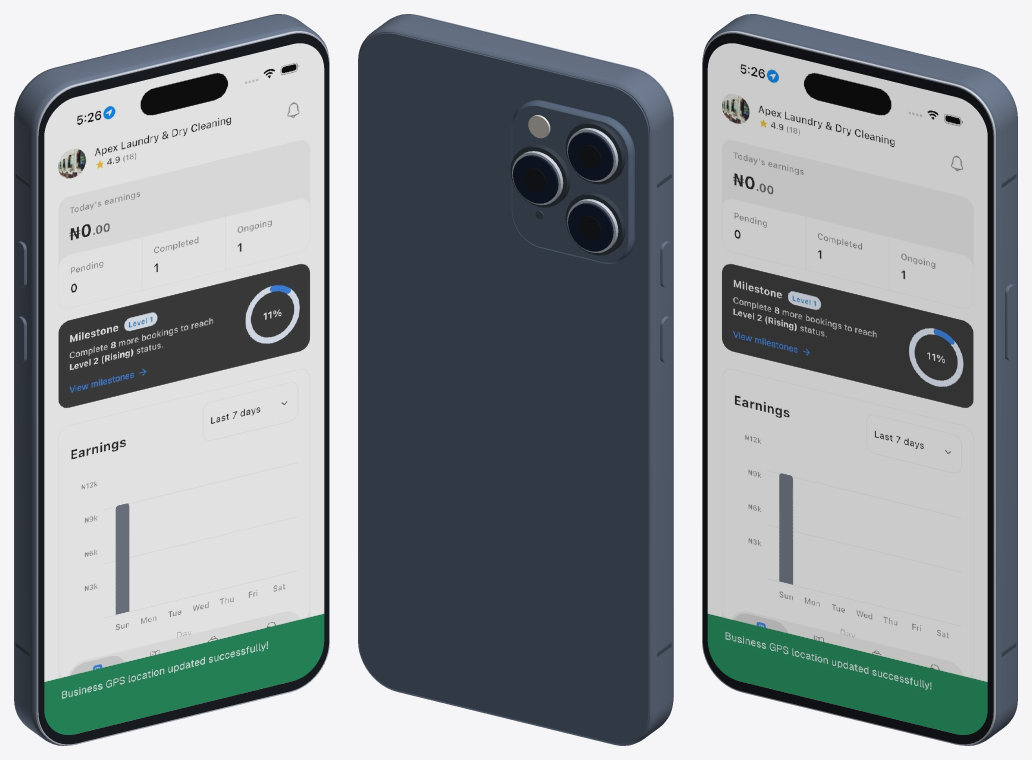
File: vendor-phone.glb
3 renders of one model, left to right at view 1: azimuth 30°, elevation 25°; view 2: azimuth 150°, elevation 25°; view 3: azimuth 330°, elevation 25°, orthographic.
Visible parts, largest first — view 1: App Store screen, Brushed aluminium chassis, Display surround, Front perimeter lip; view 2: Rear camera glass, Brushed aluminium chassis, Rear camera housing, Camera optics.002, Camera optics, Camera optics.001, Front perimeter lip, Camera hob.001, Camera hob, Camera hob.002, Polished lens surround.001; view 3: App Store screen, Brushed aluminium chassis, Display surround, Front perimeter lip, Side switch.002.
Part boxes in pixels (left/top/right/bottom): App Store screen: left=44, top=43, right=324, bottom=734; Brushed aluminium chassis: left=14, top=14, right=328, bottom=745; Display surround: left=38, top=33, right=328, bottom=744; Front perimeter lip: left=36, top=31, right=329, bottom=745; Rear camera glass: left=359, top=32, right=649, bottom=743; Brushed aluminium chassis: left=358, top=14, right=673, bottom=745; Rear camera housing: left=511, top=100, right=634, bottom=263; Camera optics.002: left=568, top=203, right=613, bottom=251; Camera optics: left=568, top=132, right=613, bottom=180; Camera optics.001: left=513, top=155, right=558, bottom=203; Front perimeter lip: left=414, top=14, right=673, bottom=702; Camera hob.001: left=510, top=144, right=570, bottom=207; Camera hob: left=565, top=121, right=625, bottom=184; Camera hob.002: left=565, top=192, right=625, bottom=255; Polished lens surround.001: left=512, top=151, right=563, bottom=205; App Store screen: left=707, top=43, right=987, bottom=734; Brushed aluminium chassis: left=703, top=14, right=1017, bottom=745; Display surround: left=703, top=33, right=993, bottom=744; Front perimeter lip: left=702, top=31, right=995, bottom=745; Side switch.002: left=1005, top=284, right=1015, bottom=360.
Size of the model in its own units: 0.78 by 1.64 by 0.169.
Materials: 9 (1 with a texture image).
